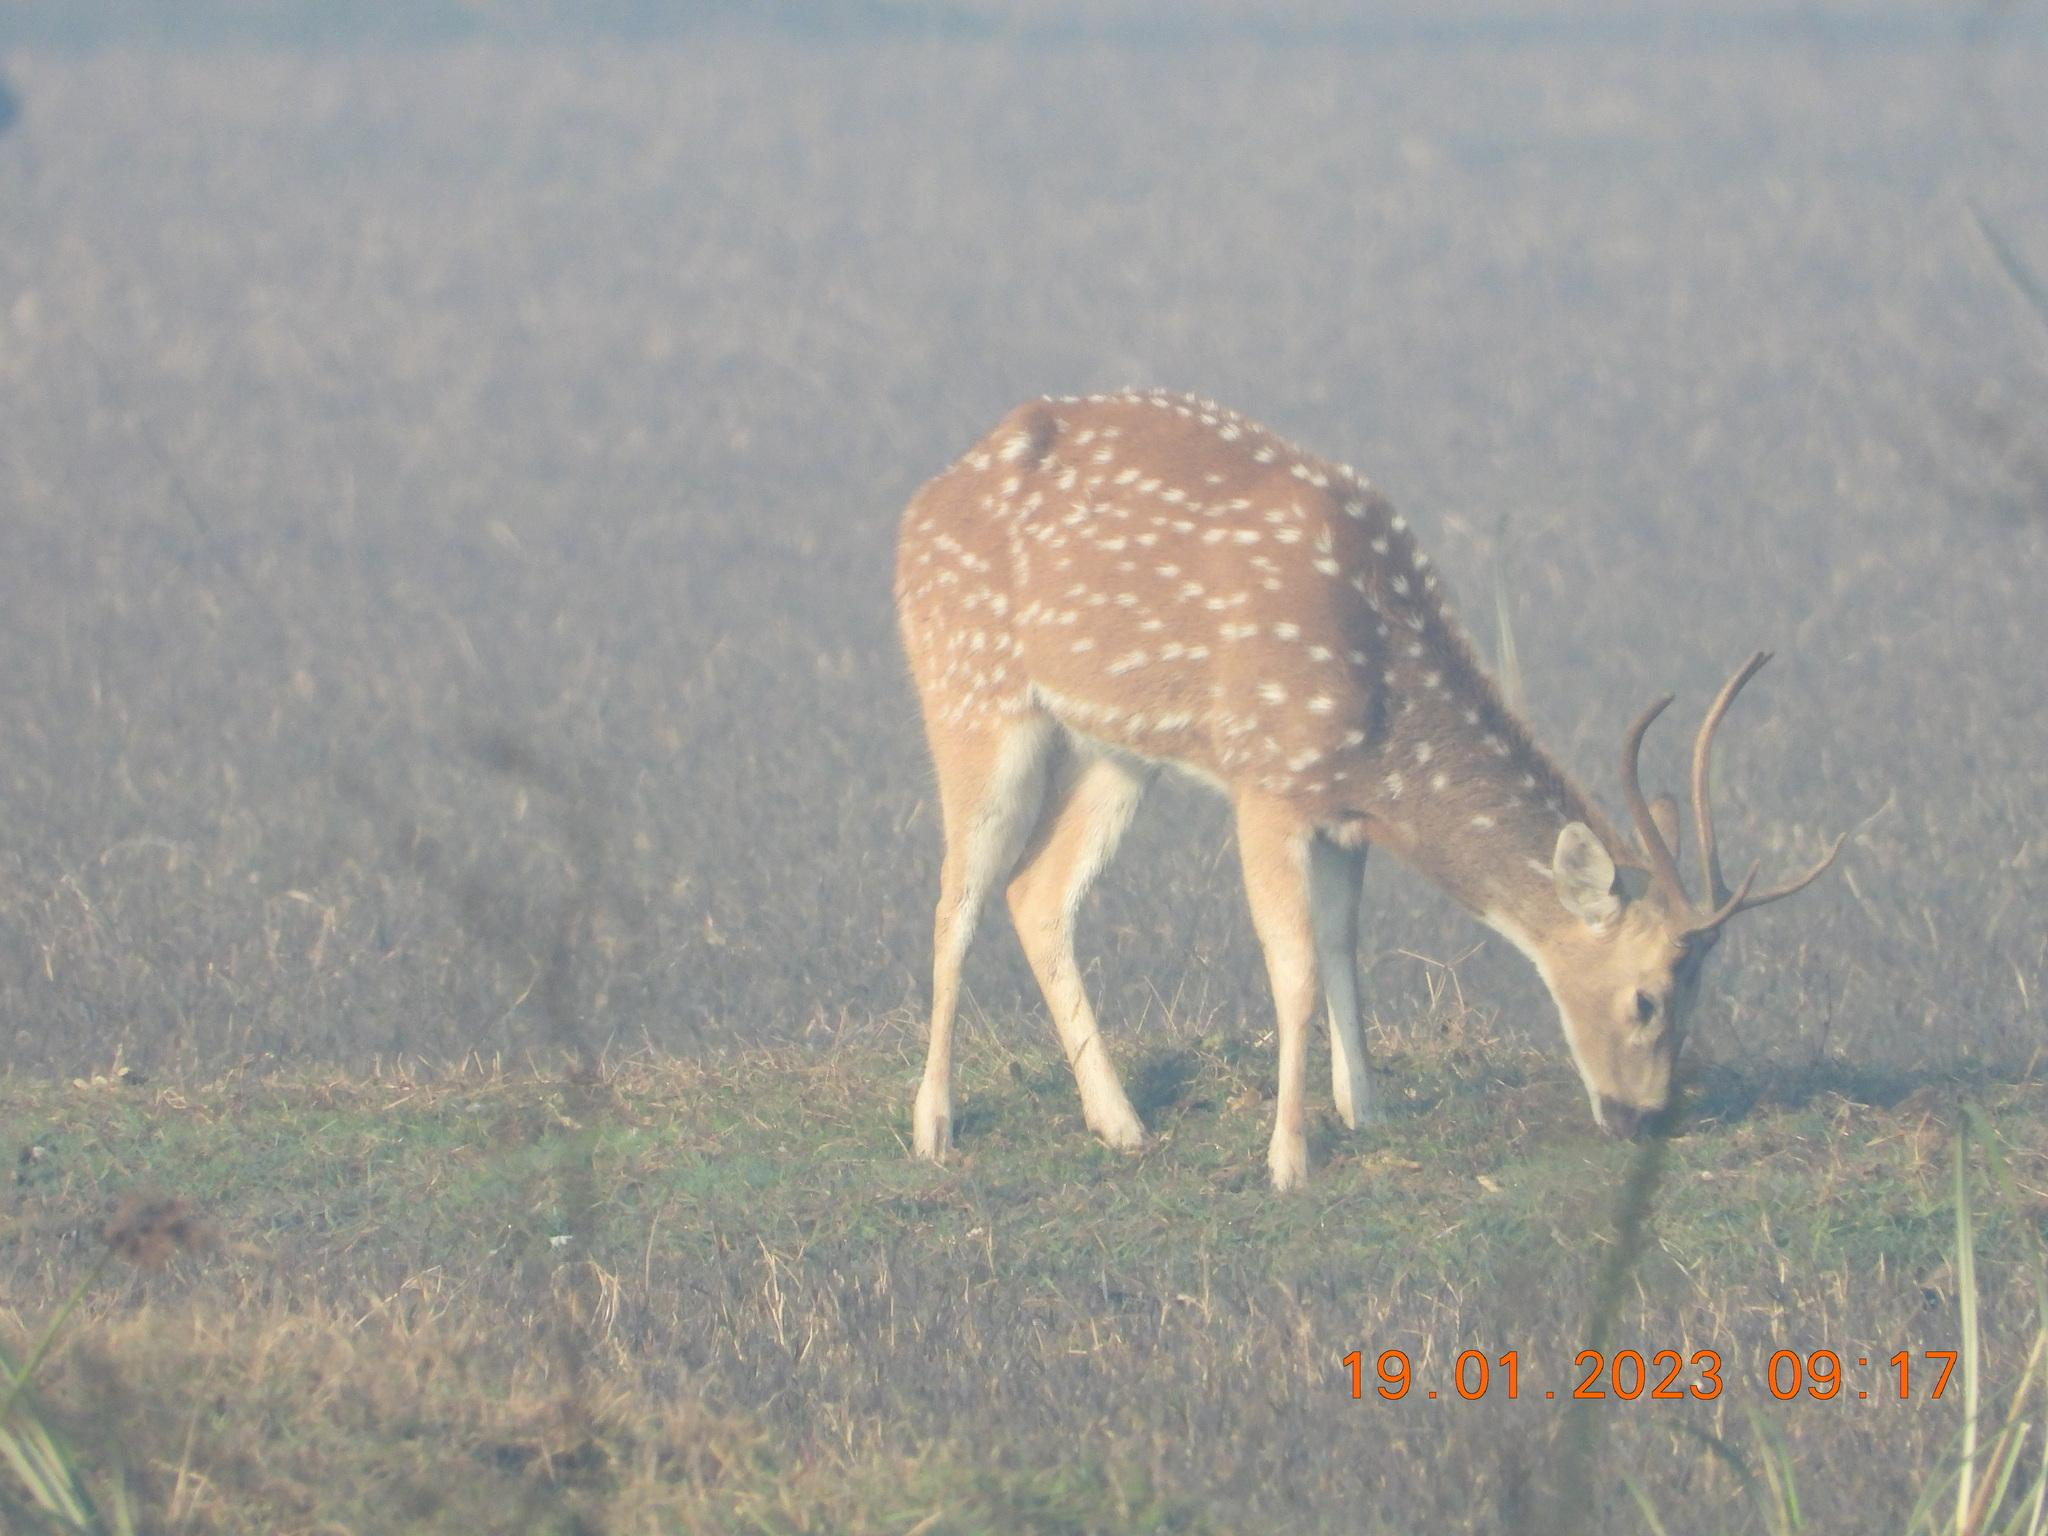Deer: (893, 390, 1838, 1187)
